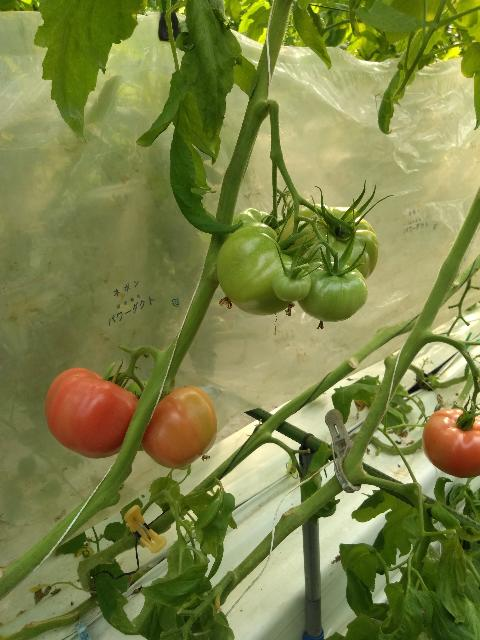b_fully_ripened: (45, 367, 138, 460)
b_green: (217, 222, 302, 316), (280, 204, 379, 279), (297, 261, 369, 322), (229, 207, 288, 238), (272, 266, 311, 302)
b_half_ripened: (141, 386, 218, 469), (422, 409, 480, 478)
